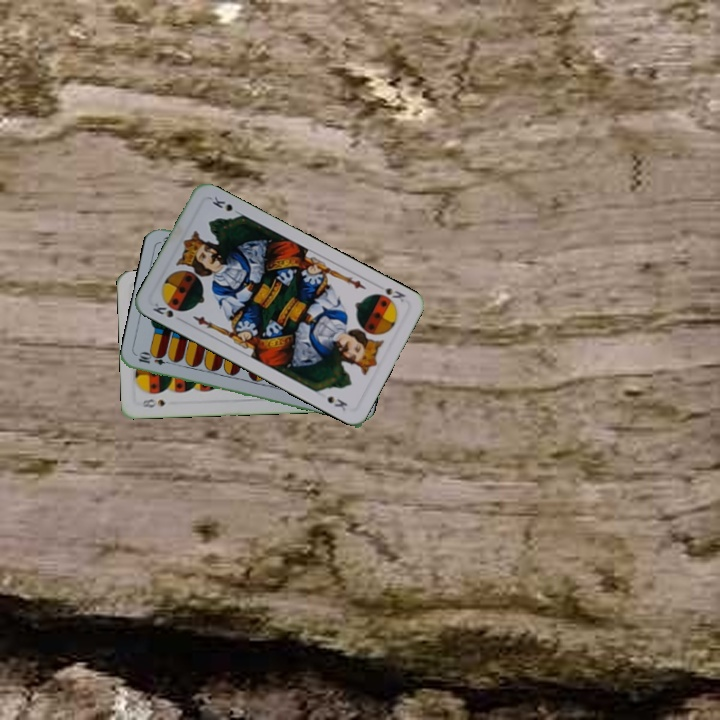E10: (135, 350, 175, 368)
S8: (138, 395, 168, 410)
SK: (148, 298, 186, 325), (381, 283, 408, 305)
